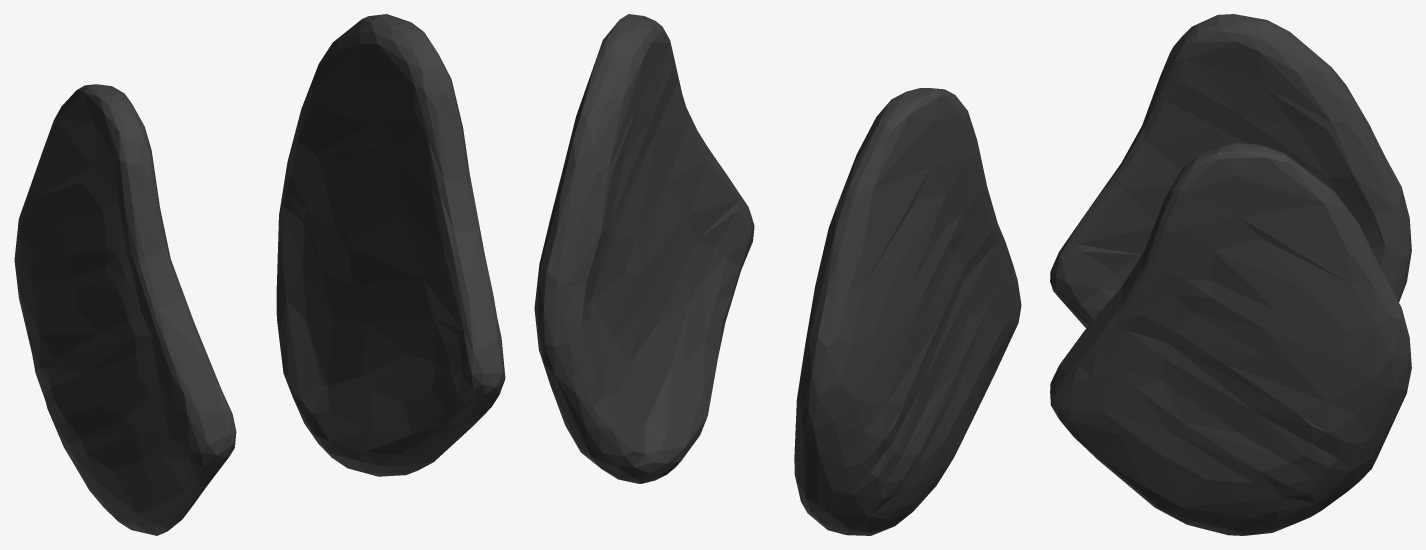
The model's file is m_masseter.glb.
3 views of the same model, side by side, from view 1: azimuth 30°, elevation 25°; view 2: azimuth 150°, elevation 25°; view 3: azimuth 270°, elevation 25° (orthographic). The views are drawn at different scales.
Visible parts, largest first — view 1: m_masseter; view 2: m_masseter; view 3: m_masseter.
Boxes of the visible parts, <box> form: m_masseter: <box>14,14,505,535</box>; m_masseter: <box>534,14,1021,535</box>; m_masseter: <box>1050,14,1411,535</box>.
Size of the model in its own units: 0.00328 by 0.0041 by 0.00335.
Materials: 1 (1 with a texture image).
